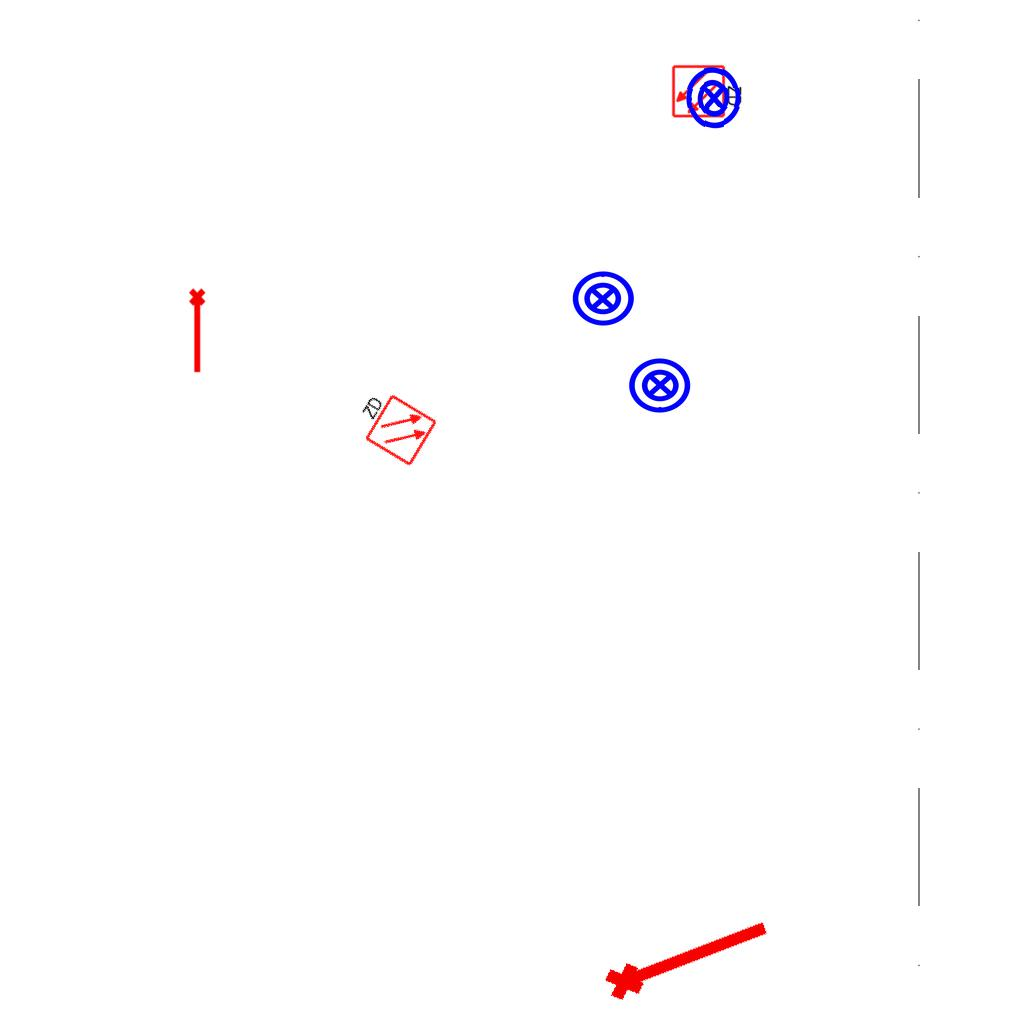ASR_Ansaugoeffnung: (596, 901, 778, 1009), (187, 287, 210, 375)
Taster_beleuchtet: (679, 63, 749, 133), (627, 352, 693, 418), (570, 266, 636, 332)
ZD_Melder_in_Zwischendecke_mit_Revisionsoeffnung_mind_40_x_40_cm: (346, 382, 439, 470), (671, 62, 745, 119)
